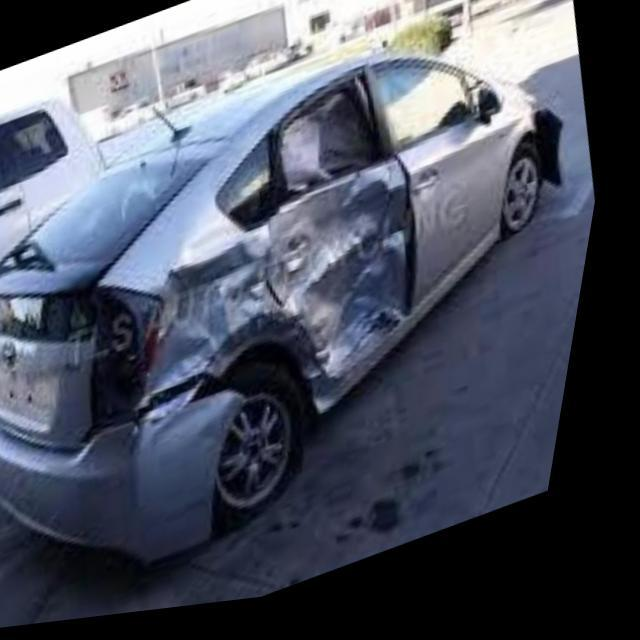dent: (144, 156, 431, 474)
dislocated part: (529, 114, 583, 212)
